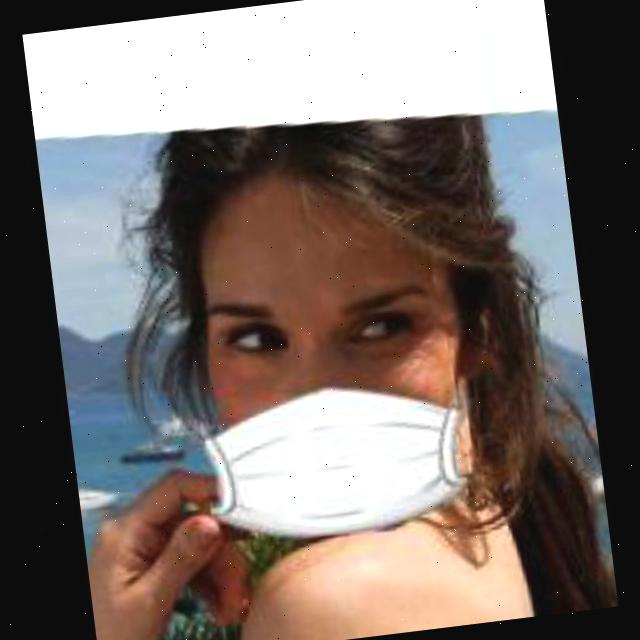suspicion: (118, 138, 524, 554)
